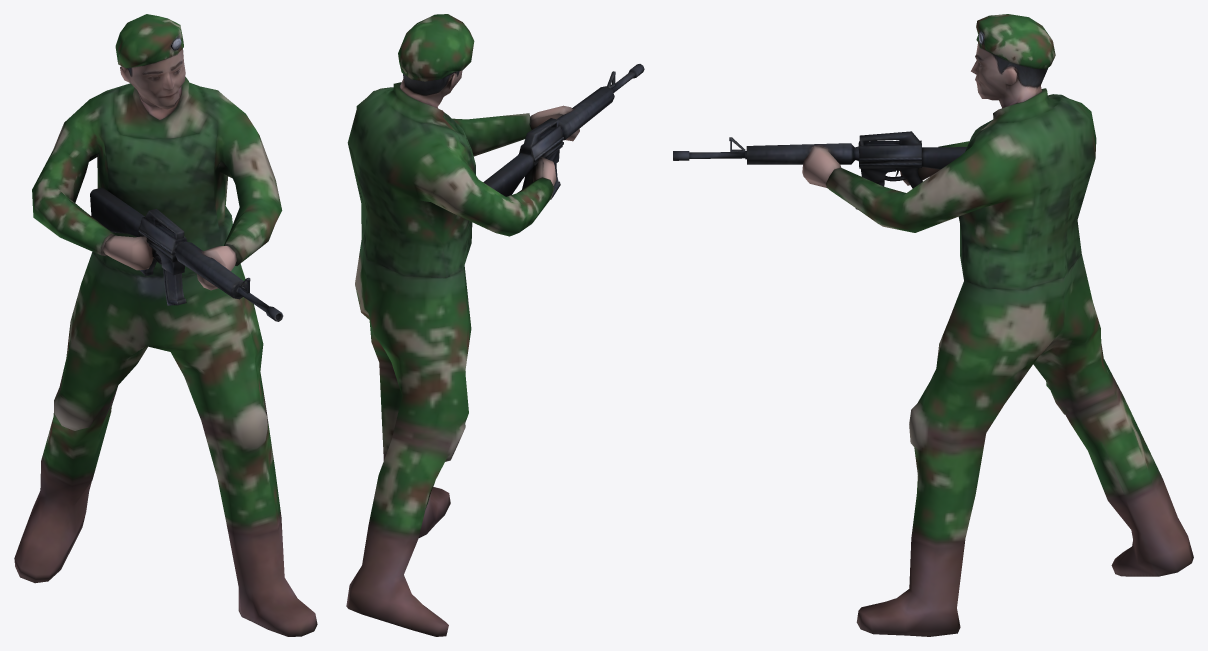
File: Marines.glb
The picture shows the model from 3 angles, left to right: view 1: azimuth 30°, elevation 25°; view 2: azimuth 150°, elevation 25°; view 3: azimuth 270°, elevation 25°; orthographic projection. The views are drawn at different scales.
Visible parts, largest first — view 1: low; view 2: low; view 3: low.
Part boxes in pixels (bbox=[...]): low: bbox=[14, 14, 317, 636]; low: bbox=[346, 14, 644, 636]; low: bbox=[673, 14, 1193, 636].
Bounding box in the file's own units: 0.5781 × 1.62 × 1.32.
1 material, 1 textured.
